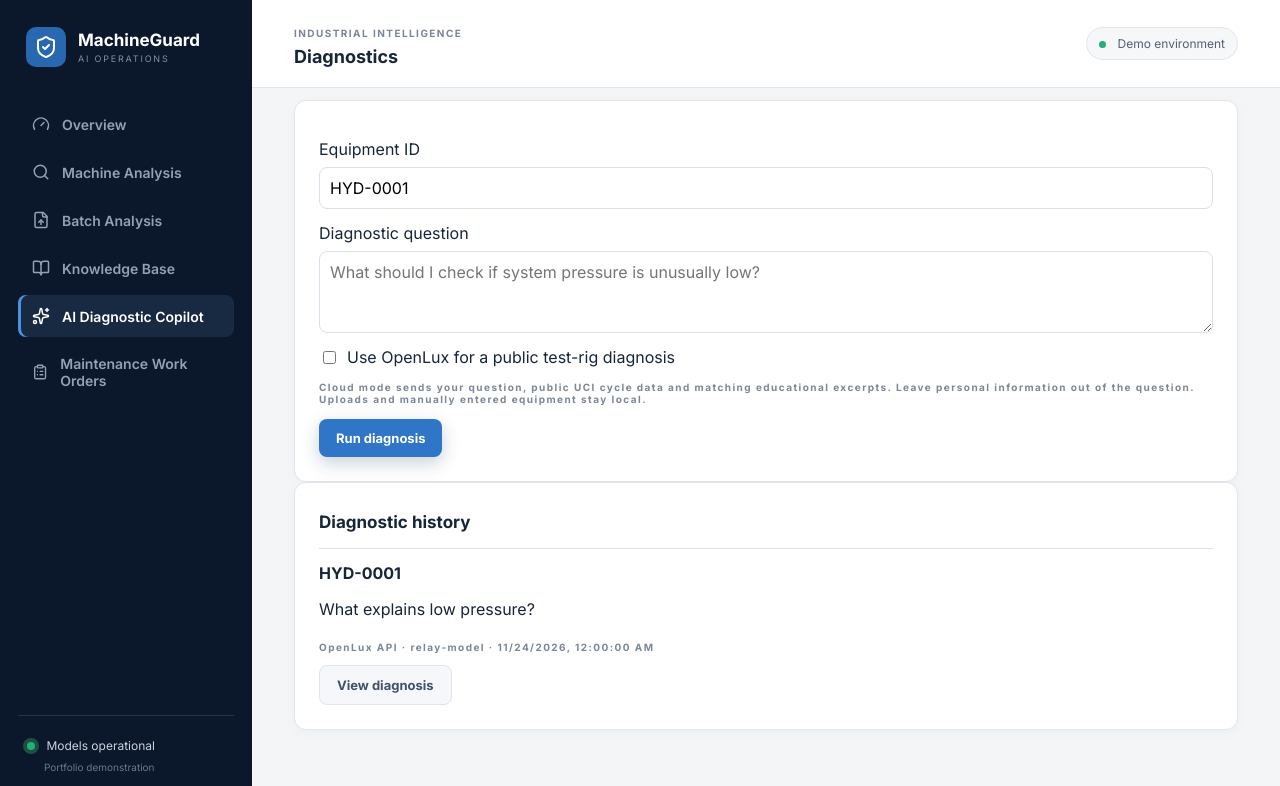
Test: shows the OpenLux provider and actual model in history and detail
(page scrolled)
Check: the text "OpenLux API · relay-model · 11/24/2026, 12:00:00 AM" is shown, box x1=319 y1=641 x2=654 y2=653
Click the button "View diagnosis": click(385, 685) x1=319 y1=665 x2=452 y2=705
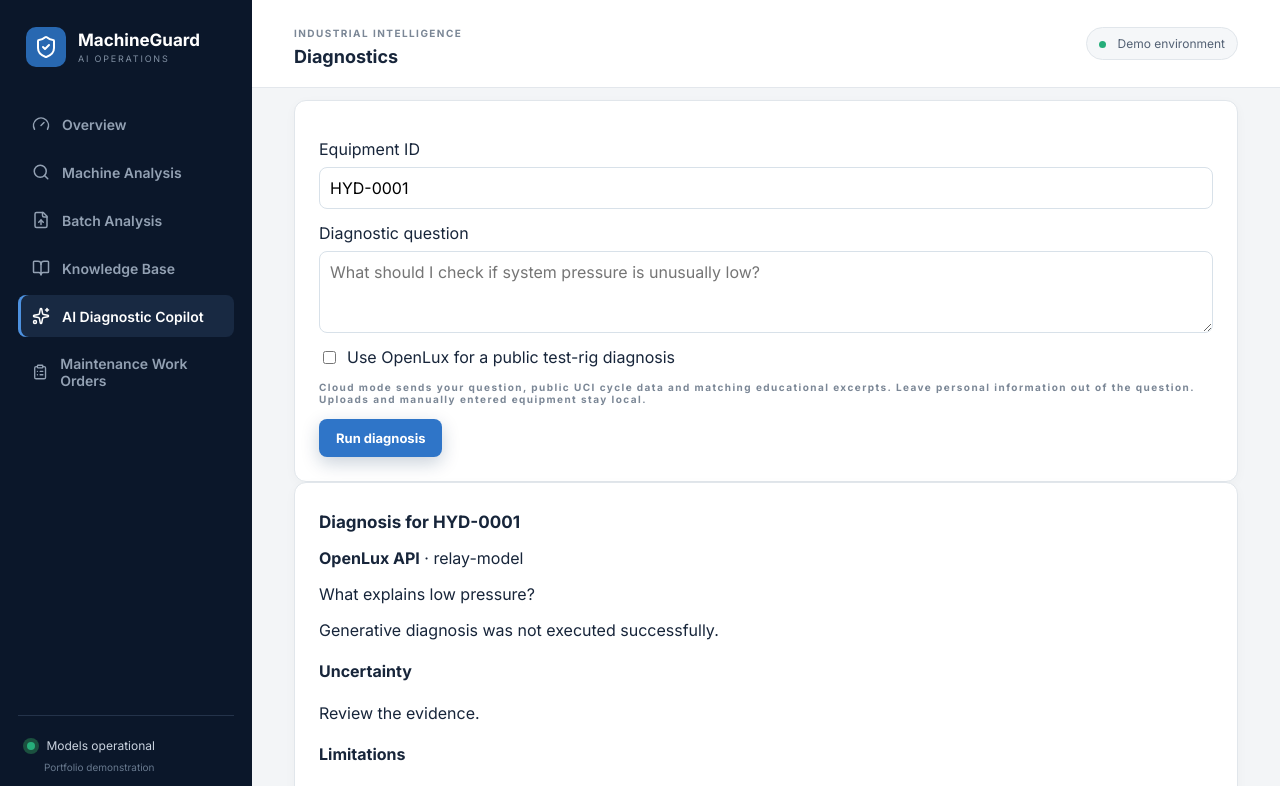
Check: the text "OpenLux API" is shown, box x1=319 y1=548 x2=420 y2=568
